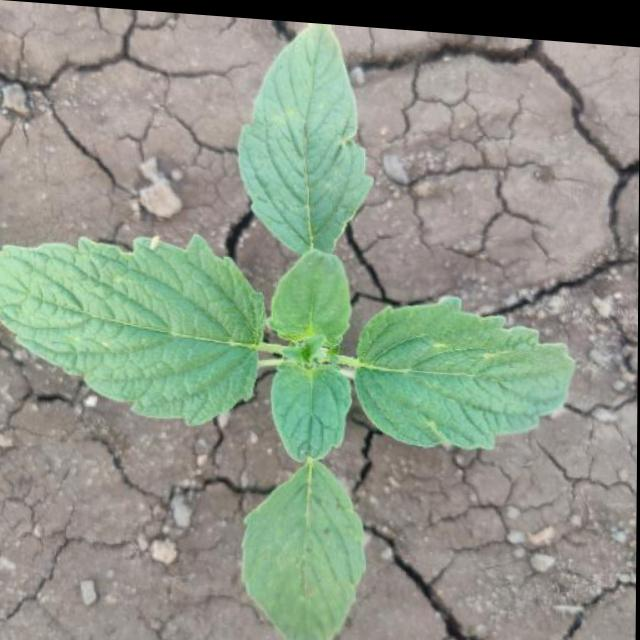crop: (1, 2, 565, 640)
